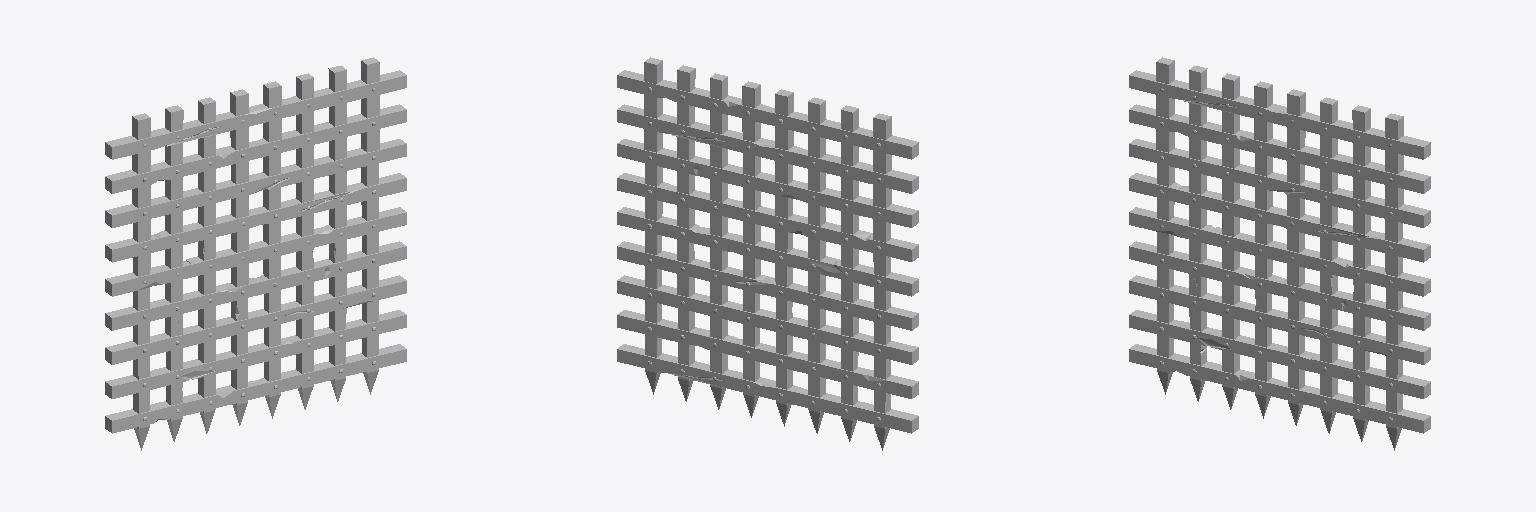
File: Portcullis_Wood.obj
The picture shows the model from 3 angles: view 1: azimuth 30°, elevation 25°; view 2: azimuth 150°, elevation 25°; view 3: azimuth 330°, elevation 25°; orthographic projection.
Visible parts, largest first — view 1: Portcullis_Wood; view 2: Portcullis_Wood; view 3: Portcullis_Wood.
Part boxes in pixels (x1,y1,x2,y2): Portcullis_Wood: (105, 57, 406, 450); Portcullis_Wood: (617, 57, 918, 450); Portcullis_Wood: (1129, 57, 1430, 450).
Size of the model in its own units: 3.61 by 3.9 by 0.1758.